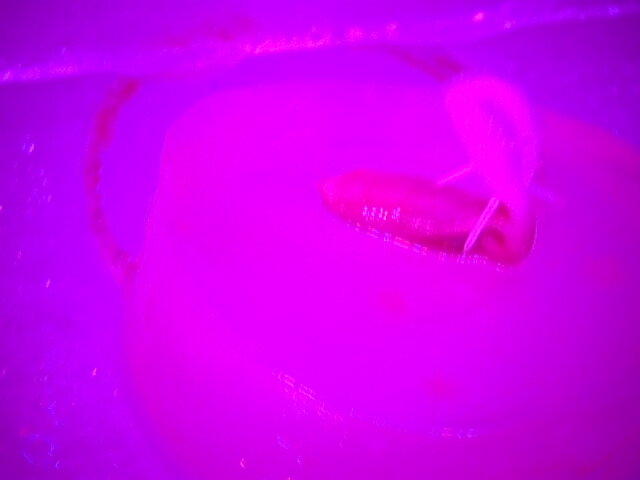sprout: (325, 75, 569, 284)
